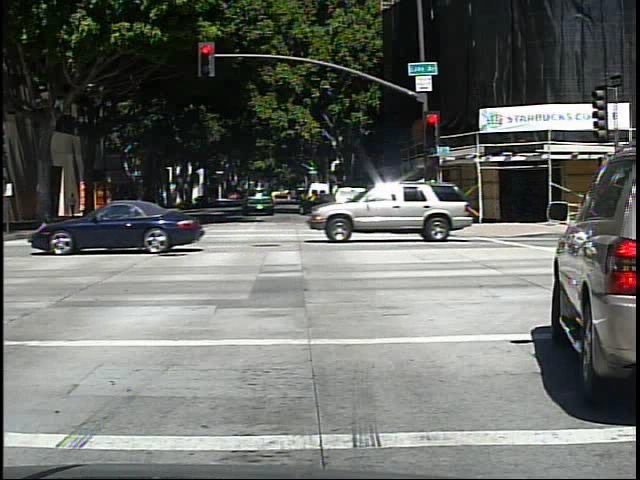person: (67, 188, 81, 219)
